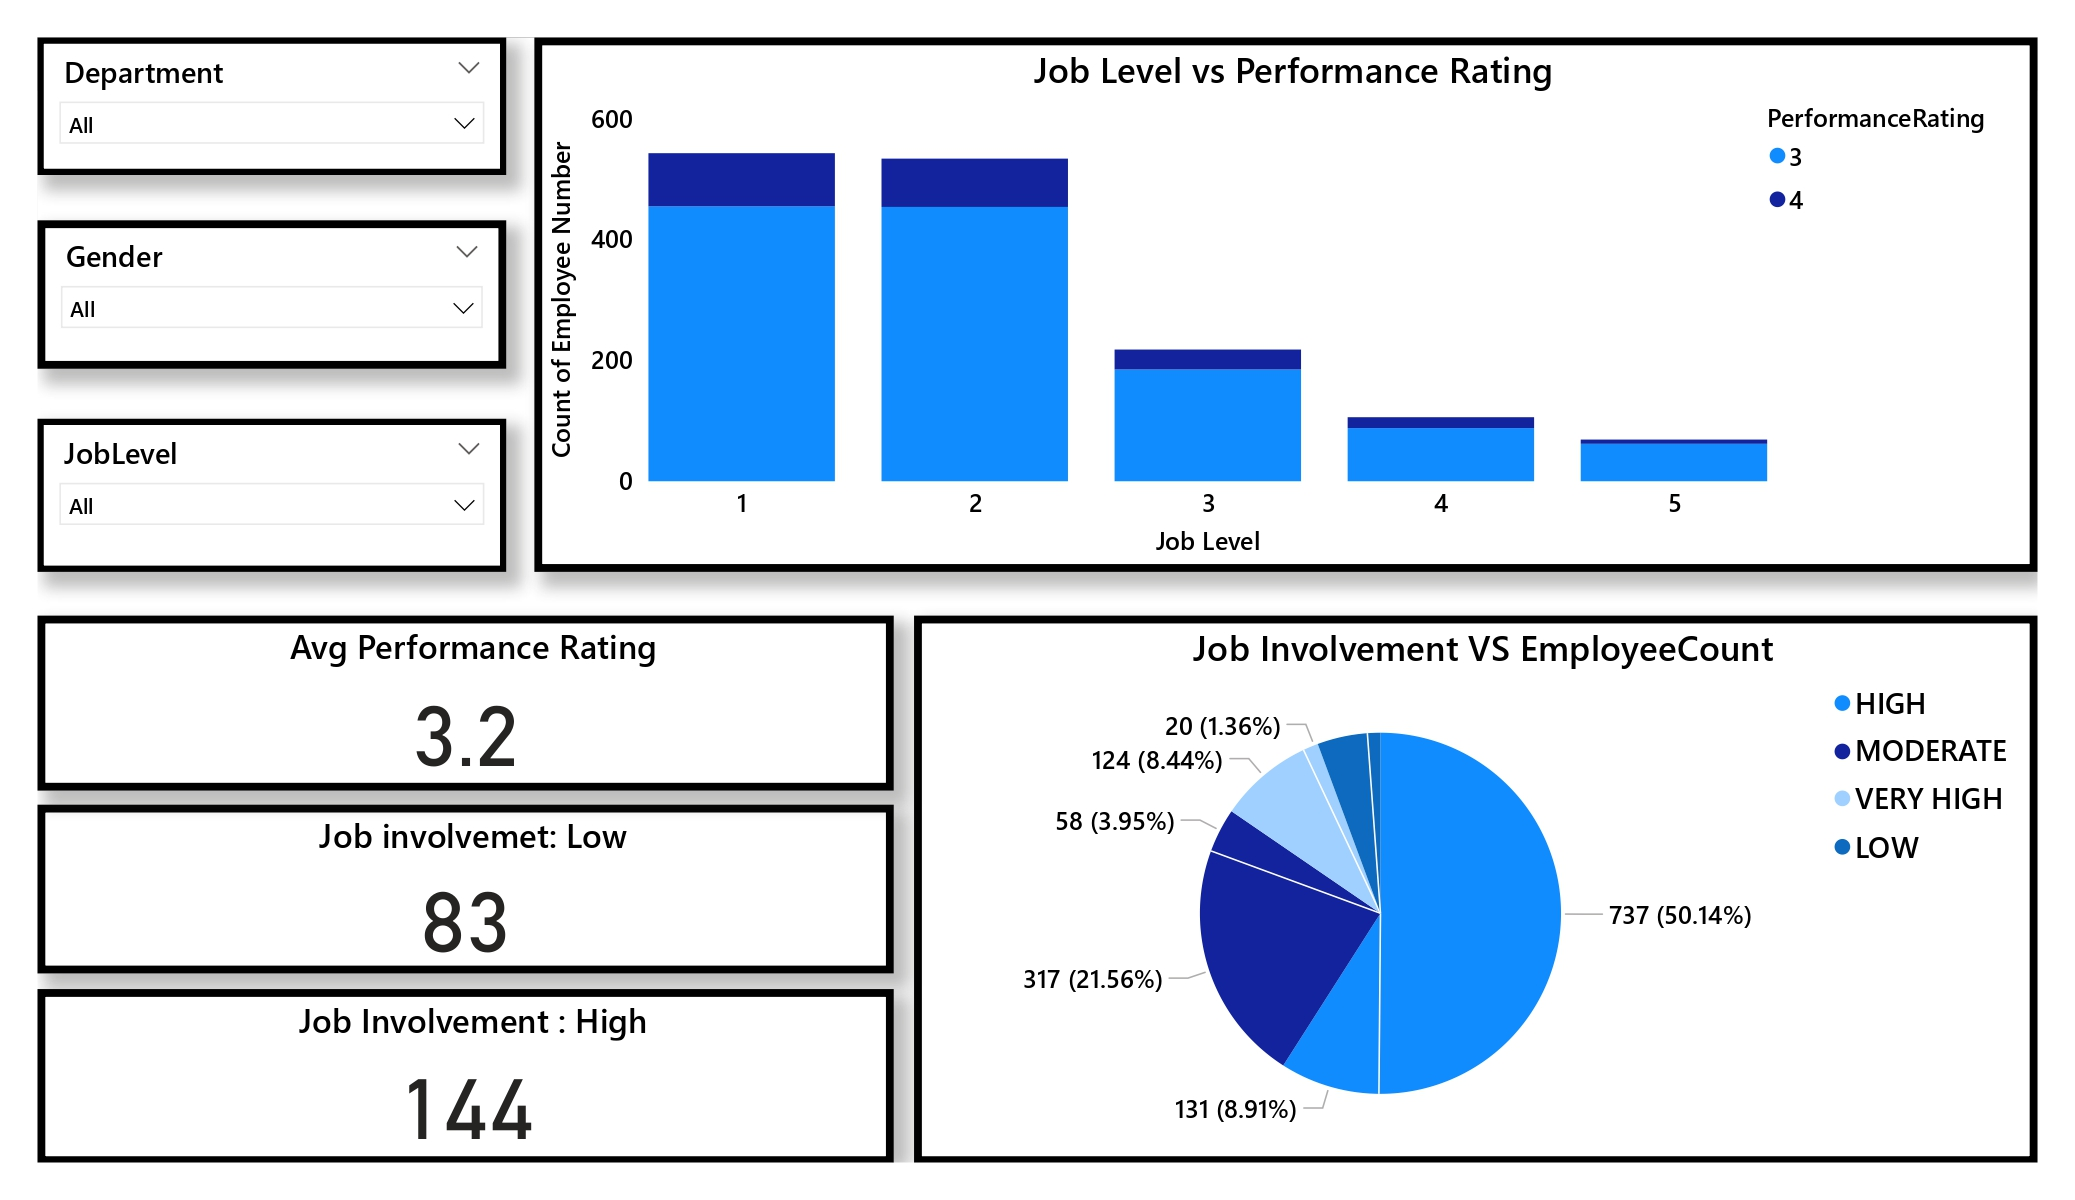

The page's visual inventory and layout, read from the dashboard file:
{"tool":"powerbi","page":{"name":"Performance","canvas":[1280,720],"ordinal":2},"visuals":[{"type":"actionButton","box":[55.3,8.5,215.4,107.7],"z":0},{"type":"actionButton","box":[55.3,157.3,223.9,107.7],"z":1000},{"type":"actionButton","box":[45.4,306.1,233.9,107.7],"z":2000},{"type":"actionButton","box":[55.4,316.1,233.9,107.7],"z":3000},{"type":"actionButton","box":[49.6,582.5,233.9,107.7],"z":4000},{"type":"slicer","fields":{"Values":["ibm data.Department"]},"box":[0,0,299.8,88.3],"z":5000},{"type":"slicer","fields":{"Values":["ibm data.Gender"]},"box":[0,117.2,299.8,94.4],"z":6000},{"type":"slicer","fields":{"Values":["ibm data.JobLevel"]},"box":[0,243.5,299.8,98.9],"z":7000},{"type":"lineStackedColumnComboChart","title":"Job Level vs Performance Rating","fields":{"Category":["ibm data.JobLevel"],"Series":["ibm data.PerformanceRating"],"Y":["CountNonNull(ibm data.EmployeeNumber)"]},"box":[318,0,962,342.2],"z":8000},{"type":"pieChart","title":"Job Involvement VS EmployeeCount","fields":{"Category":["ibm data.JOBInvolvementLabel"],"Series":["ibm data.PerformanceRating"],"Y":["CountNonNull(ibm data.EmployeeNumber)"]},"box":[561.3,369.8,718.7,350.8],"z":9000},{"type":"card","title":"Job involvemet: Low","fields":{"Values":["CountNonNull(ibm data.JobInvolvement)"]},"box":[0,491,547.8,107.5],"z":10000},{"type":"card","title":"Job Involvement : High","fields":{"Values":["CountNonNull(ibm data.JobInvolvement)"]},"box":[0,609,547.8,111.9],"z":11000},{"type":"card","title":"Avg Performance Rating","fields":{"Values":["Avg(ibm data.PerformanceRating)"]},"box":[0,370.1,547.8,111.9],"z":12000}]}

Visuals, with their boxes in screenshot pixels (x1, y1, x2, y2):
actionButton: box(139, 51, 471, 217)
actionButton: box(139, 280, 485, 446)
actionButton: box(124, 510, 485, 676)
actionButton: box(139, 525, 500, 691)
actionButton: box(131, 936, 491, 1102)
slicer - ibm data.Department: box(54, 38, 516, 174)
slicer - ibm data.Gender: box(54, 219, 516, 364)
slicer - ibm data.JobLevel: box(54, 413, 516, 566)
"Job Level vs Performance Rating" lineStackedColumnComboChart: box(544, 38, 2028, 566)
"Job Involvement VS EmployeeCount" pieChart: box(920, 608, 2028, 1149)
"Job involvemet: Low" card: box(54, 795, 899, 961)
"Job Involvement : High" card: box(54, 977, 899, 1149)
"Avg Performance Rating" card: box(54, 609, 899, 781)
